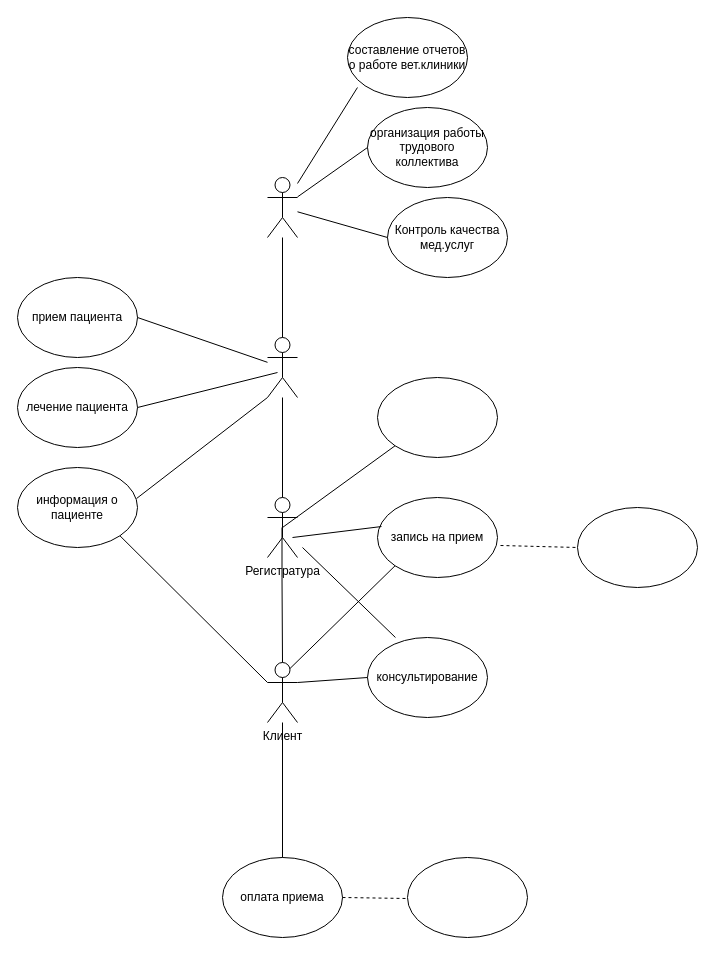
This 715x955 diagram has some shape labels left out. The box of each missing label's shape, as (x1, y1, x2, y2) in pixels:
Вет.врач: (266, 336, 298, 398)
Глав.врач: (266, 176, 298, 238)
отзыв: (406, 856, 528, 938)
отмена записи на прием: (576, 506, 698, 588)
распределение клиентов к врачам: (376, 376, 498, 458)
